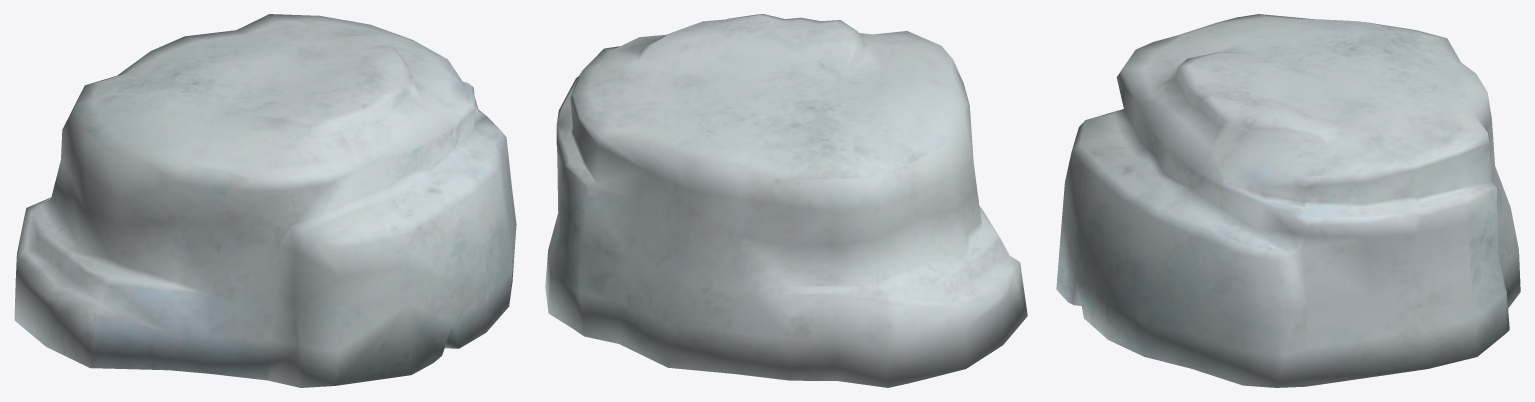
File: P_RockDesert_Shelf01.obj
The picture shows the model from 3 angles, left to right: view 1: azimuth 30°, elevation 25°; view 2: azimuth 150°, elevation 25°; view 3: azimuth 270°, elevation 25°; orthographic projection.
Size of the model in its own units: 20.98 by 10.75 by 18.69.
